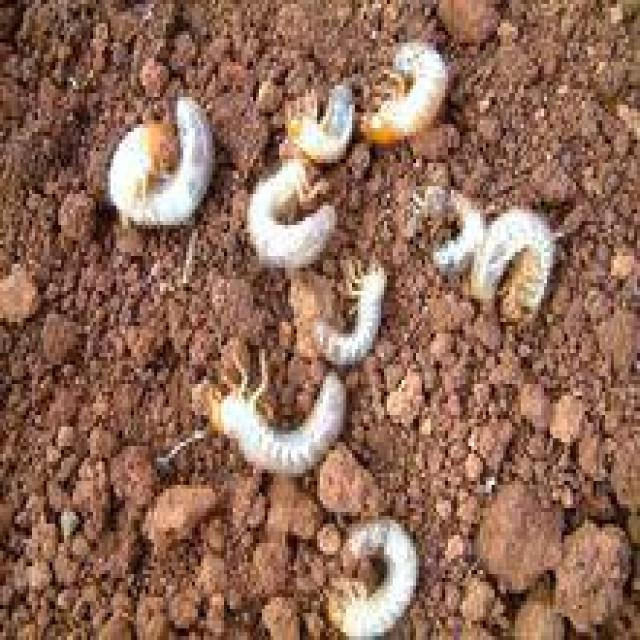Grub-Adult-: (216, 358, 358, 487), (219, 125, 338, 276), (462, 200, 572, 340), (112, 74, 213, 224), (329, 522, 437, 636), (364, 31, 462, 143), (305, 264, 401, 376)
